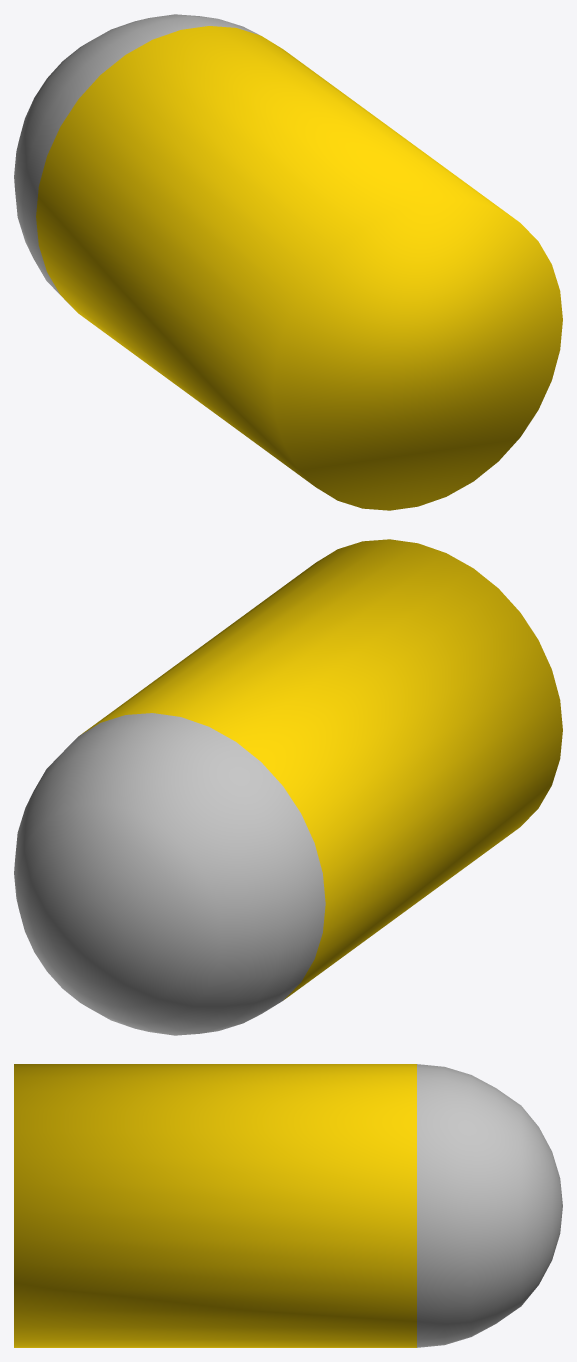
File: bulletblend.fbx
3 views of the same model, one above another, from view 1: azimuth 30°, elevation 25°; view 2: azimuth 150°, elevation 25°; view 3: azimuth 270°, elevation 25° (orthographic). The views are drawn at different scales.
Parts seen in each view (by area): view 1: Sphere; view 2: Sphere; view 3: Sphere.
Part boxes in pixels (x1,y1,x2,y2): Sphere: (14,14,562,510); Sphere: (14,539,562,1035); Sphere: (14,1064,562,1347).
Bounding box in the file's own units: 200 × 200 × 387.
